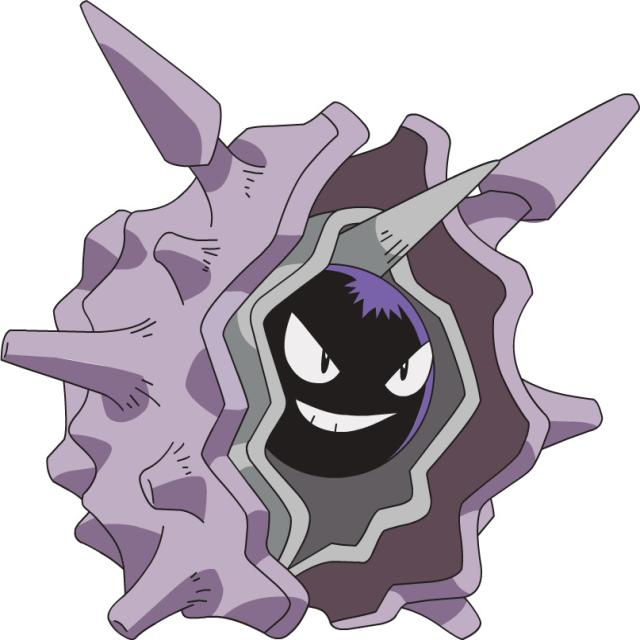Cloyster: (57, 99, 555, 634)
